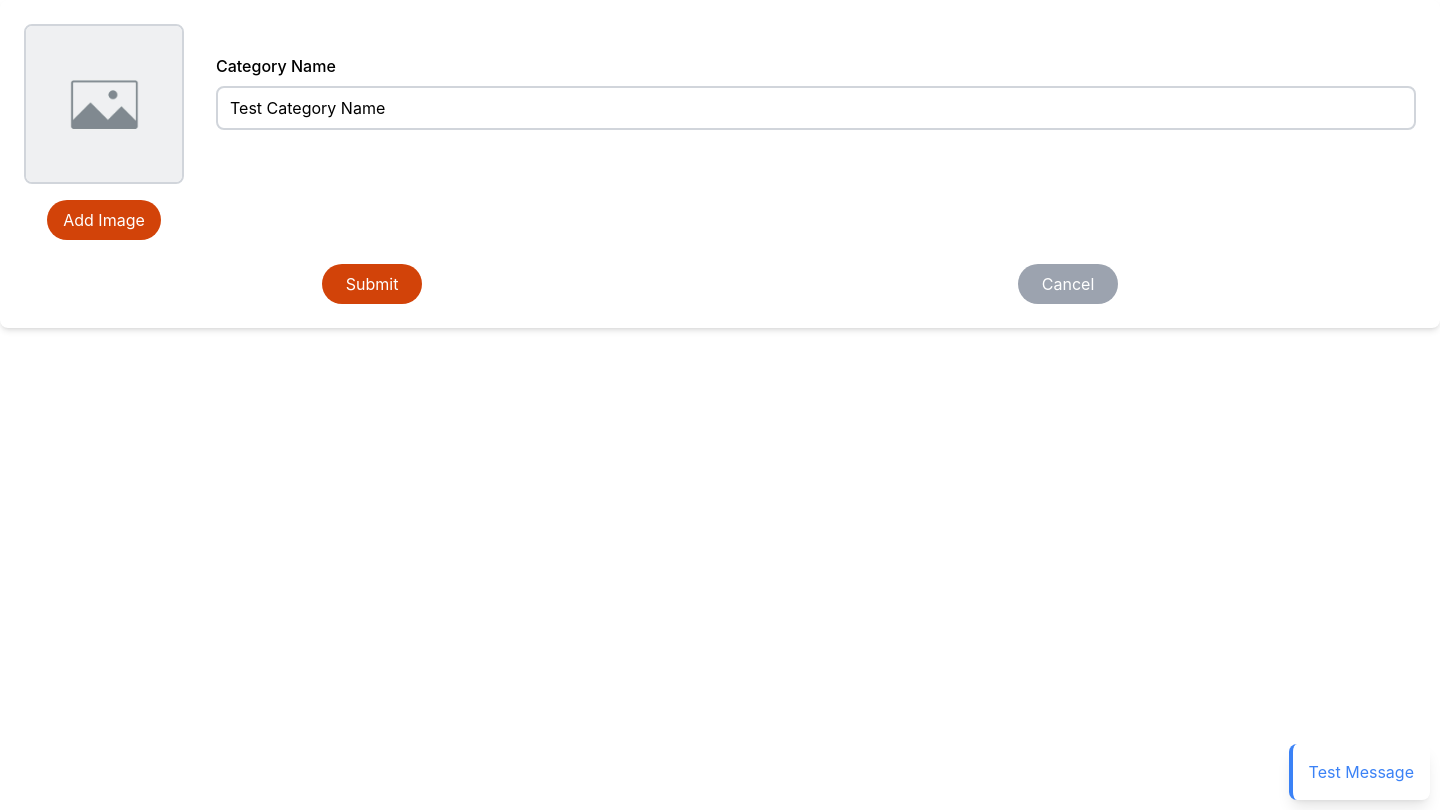
Test: should give validation errors on need
Clear the field at point(816, 108), box [216, 86, 1416, 130]
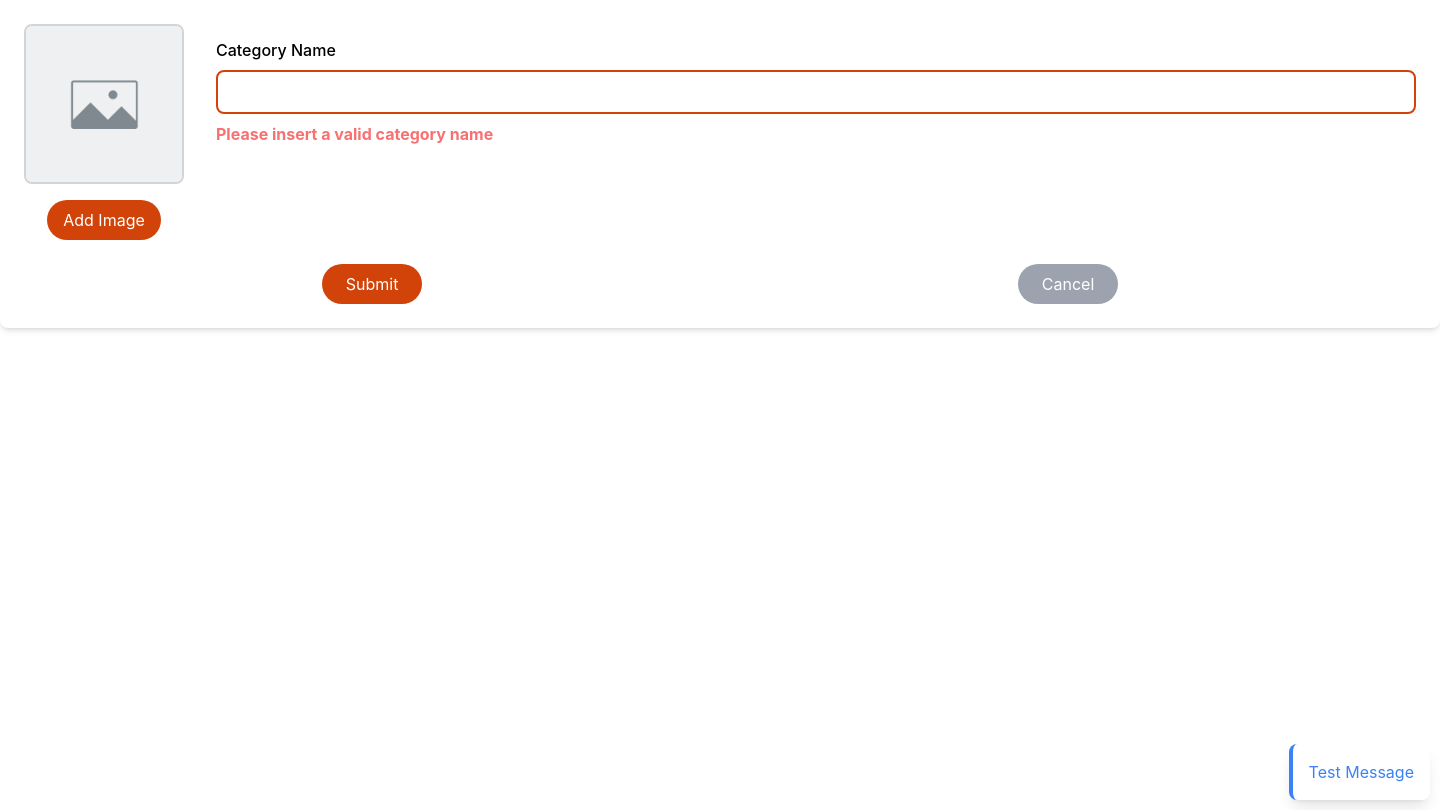
Expected: the text "Please insert a valid category name" is shown, [216, 124, 493, 144]
Type "S" into the field.
click(816, 92); type("S")  # box [216, 70, 1416, 114]
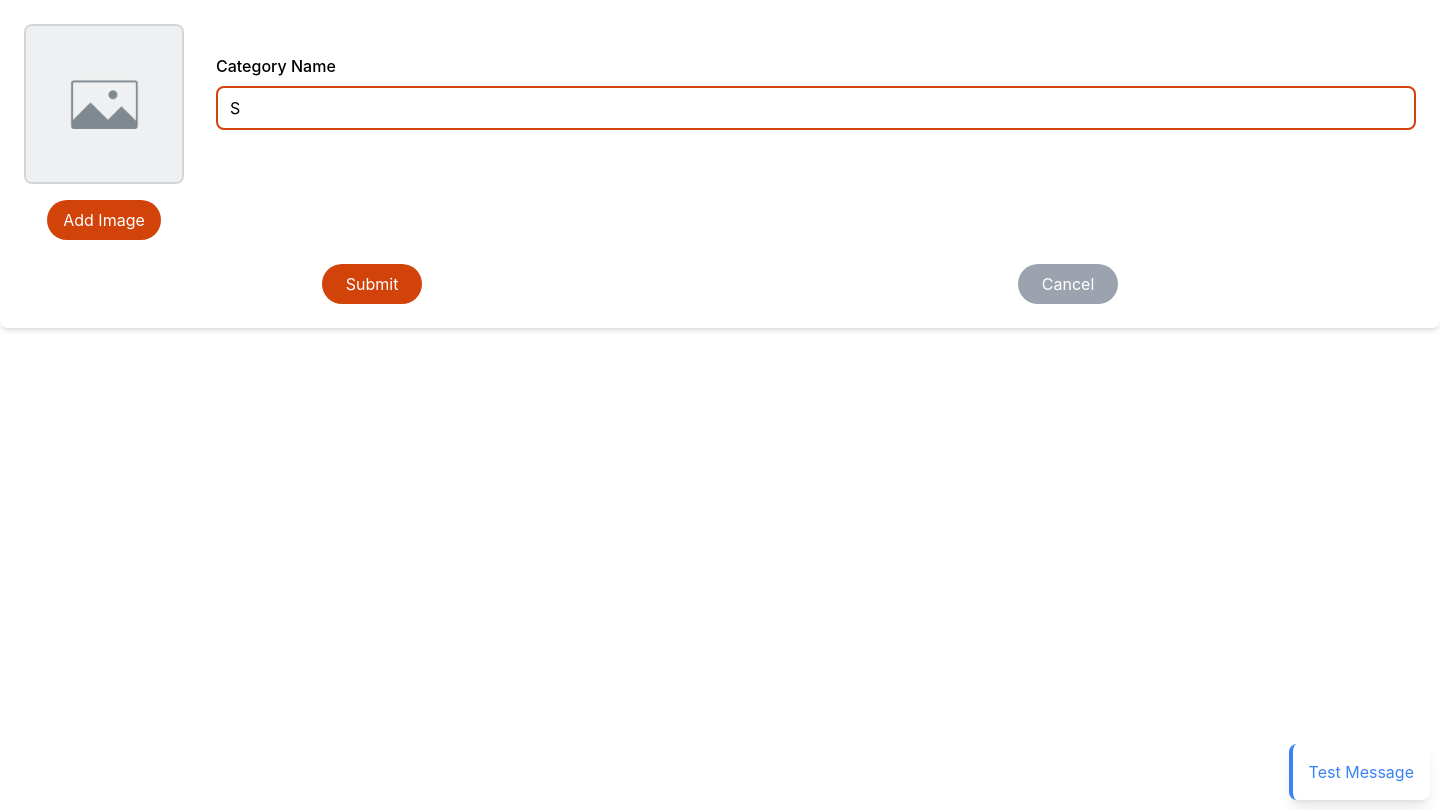
Expected: the text "Please insert a valid category name" is gone
